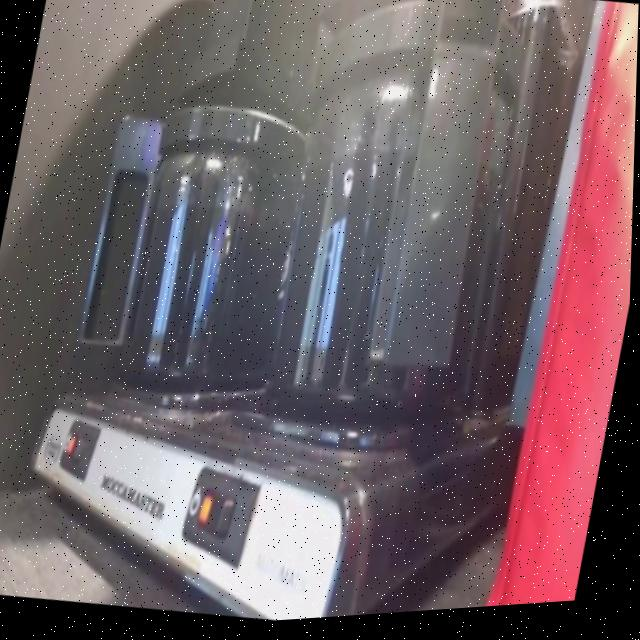coffee: (266, 119, 516, 441), (119, 163, 303, 392)
